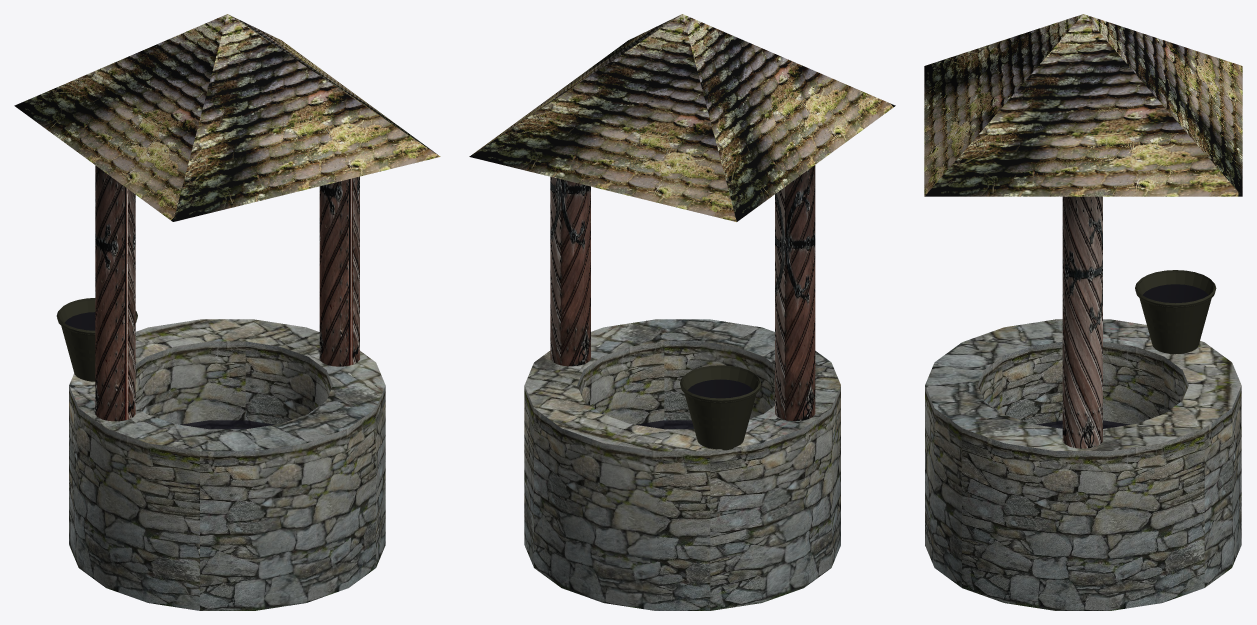
Rendered from kladenec.FBX.
3 views of the same model, side by side, from view 1: azimuth 30°, elevation 25°; view 2: azimuth 150°, elevation 25°; view 3: azimuth 270°, elevation 25° (orthographic).
Visible parts, largest first — view 1: Cylinder001; view 2: Cylinder001; view 3: Cylinder001.
Boxes of the visible parts, <box> form: Cylinder001: <box>14,14,440,610</box>; Cylinder001: <box>469,14,895,610</box>; Cylinder001: <box>924,14,1242,610</box>.
Bounding box in the file's own units: 33.16 × 62.34 × 33.83.
5 materials, 3 textured.
